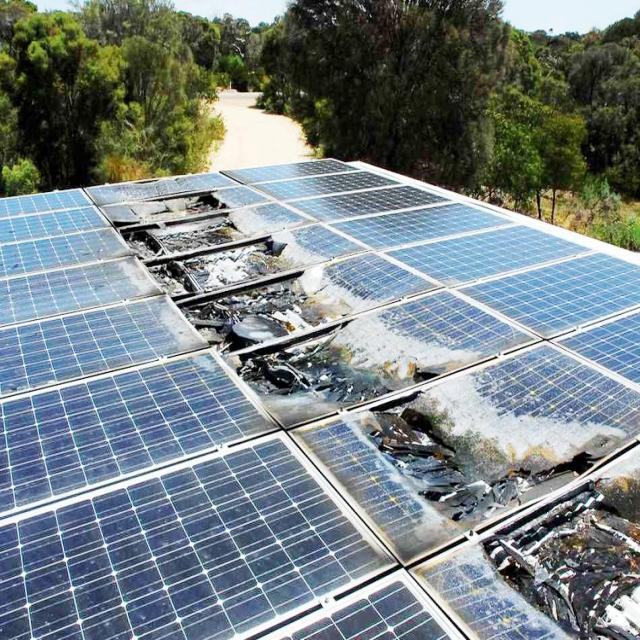faulty: (290, 342, 638, 568), (224, 307, 541, 429), (154, 242, 448, 360), (91, 184, 278, 233), (82, 168, 245, 196)
no faulty: (2, 358, 296, 516), (2, 300, 201, 394), (472, 246, 638, 340), (413, 217, 596, 288), (2, 256, 164, 318), (331, 198, 519, 250), (300, 182, 453, 222), (268, 166, 406, 206), (228, 154, 364, 186), (0, 202, 107, 242), (0, 186, 91, 210)
